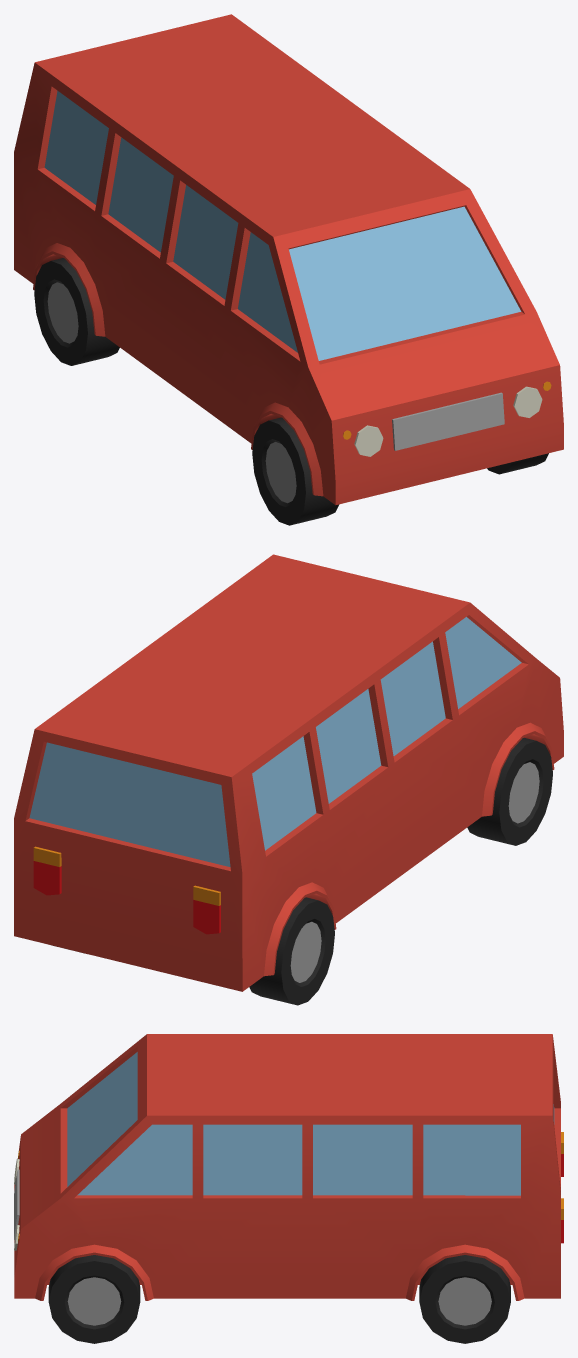
Rendered from car-minibus-red.gltf.
3 views of the same model, one above another, from view 1: azimuth 30°, elevation 25°; view 2: azimuth 150°, elevation 25°; view 3: azimuth 270°, elevation 25° (orthographic). The views are drawn at different scales.
Parts seen in each view (by area): view 1: car-minibus-red_Cube.625; view 2: car-minibus-red_Cube.625; view 3: car-minibus-red_Cube.625.
Part boxes in pixels (x1,y1,x2,y2): car-minibus-red_Cube.625: (14,14,563,525); car-minibus-red_Cube.625: (14,554,563,1005); car-minibus-red_Cube.625: (14,1034,563,1343).
Bounding box in the file's own units: 1.91 × 1.89 × 4.33.
